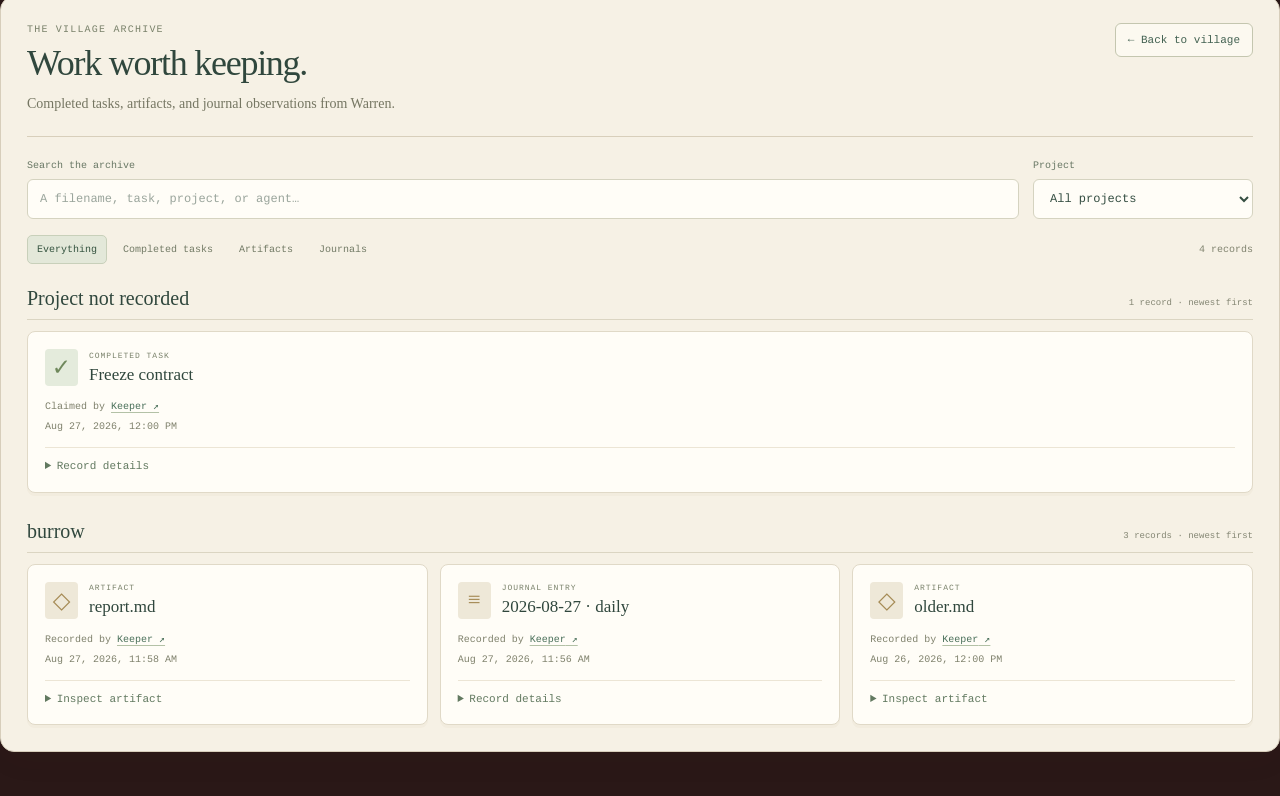
Test case: village archive › shows metadata before explicit preview and copies exact local paths with visible feedback
This screenshot has width=1280, height=796.
Click the heading "Inspect artifact" below "Aug 27, 2026, 11:58 AM" at x=109, y=699, box [57, 693, 162, 705]
(page scrolled)
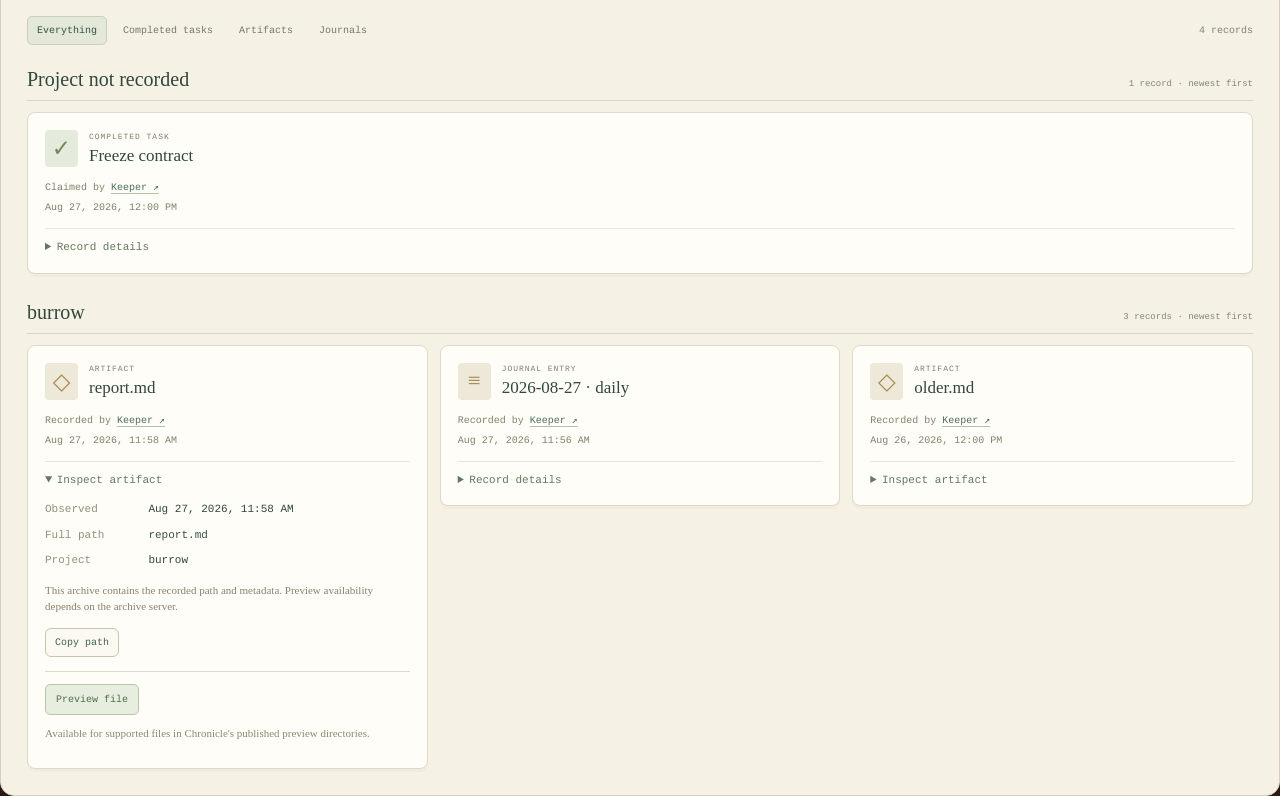
Expected: the element "report.md" shows "Preview availability depends on the archive server.", [45, 584, 373, 612]
Click the button "Copy path" at x=82, y=642, box [45, 628, 119, 657]
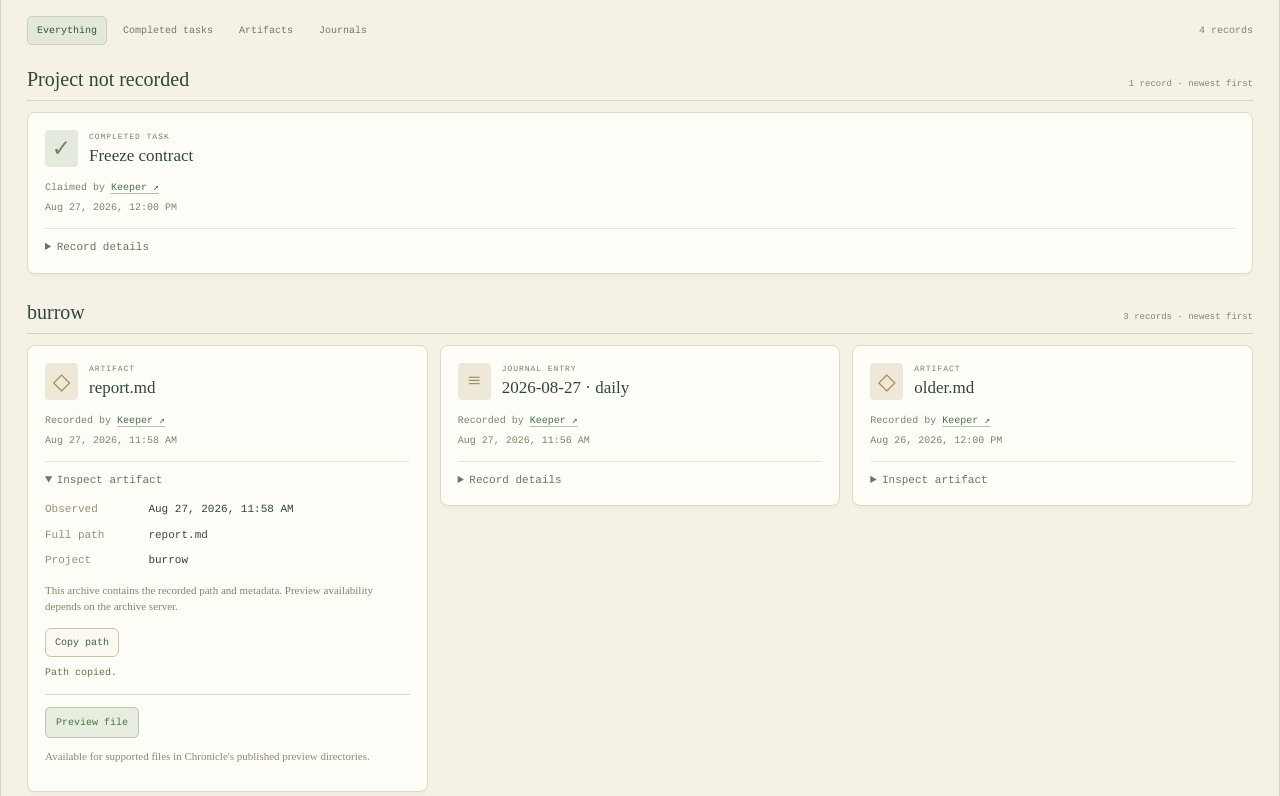
Expected: the message "Path copied." is shown, [45, 667, 117, 678]
